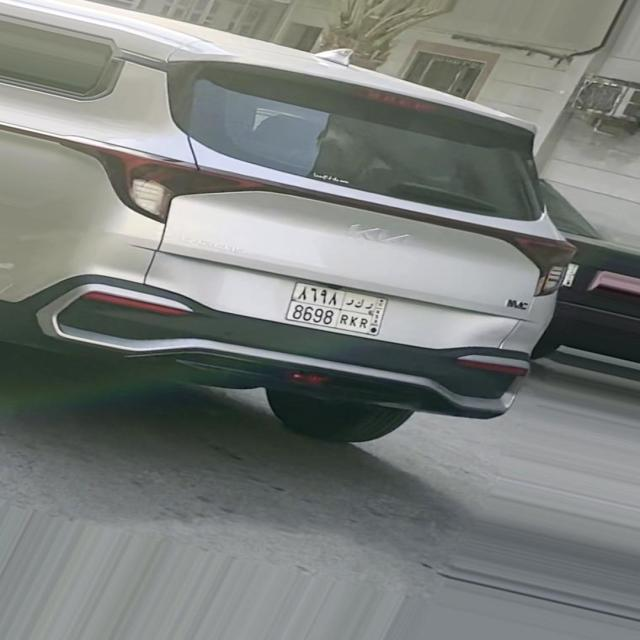Car-plate: (269, 270, 407, 343)
